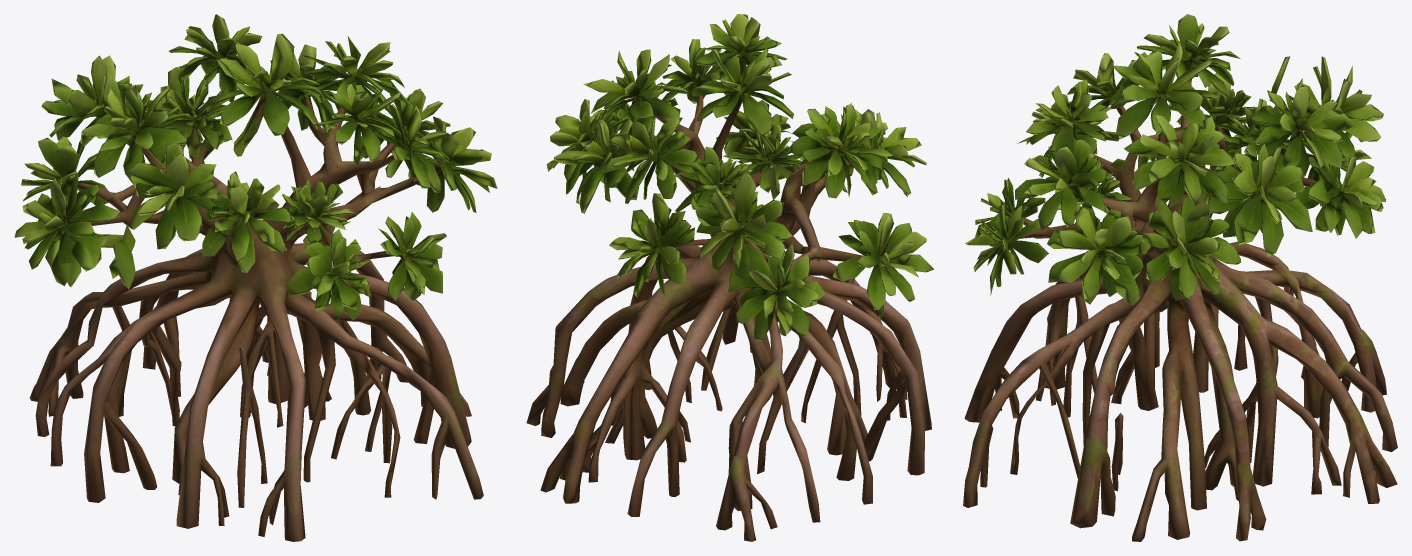
The model's file is env-mangrove3.glb.
3 renders of one model, left to right at view 1: azimuth 30°, elevation 25°; view 2: azimuth 150°, elevation 25°; view 3: azimuth 270°, elevation 25°, orthographic. The views are drawn at different scales.
Visible parts, largest first — view 1: tripo_node_55ef3a46-626d-48b5-a440-41ffd737922c; view 2: tripo_node_55ef3a46-626d-48b5-a440-41ffd737922c; view 3: tripo_node_55ef3a46-626d-48b5-a440-41ffd737922c.
Boxes of the visible parts, bbox=[...] form: tripo_node_55ef3a46-626d-48b5-a440-41ffd737922c: bbox=[14, 14, 497, 541]; tripo_node_55ef3a46-626d-48b5-a440-41ffd737922c: bbox=[526, 14, 933, 541]; tripo_node_55ef3a46-626d-48b5-a440-41ffd737922c: bbox=[963, 14, 1397, 541].
Bounding box in the file's own units: 0.9988 × 0.9629 × 0.937.
Materials: 1 (1 with a texture image).
